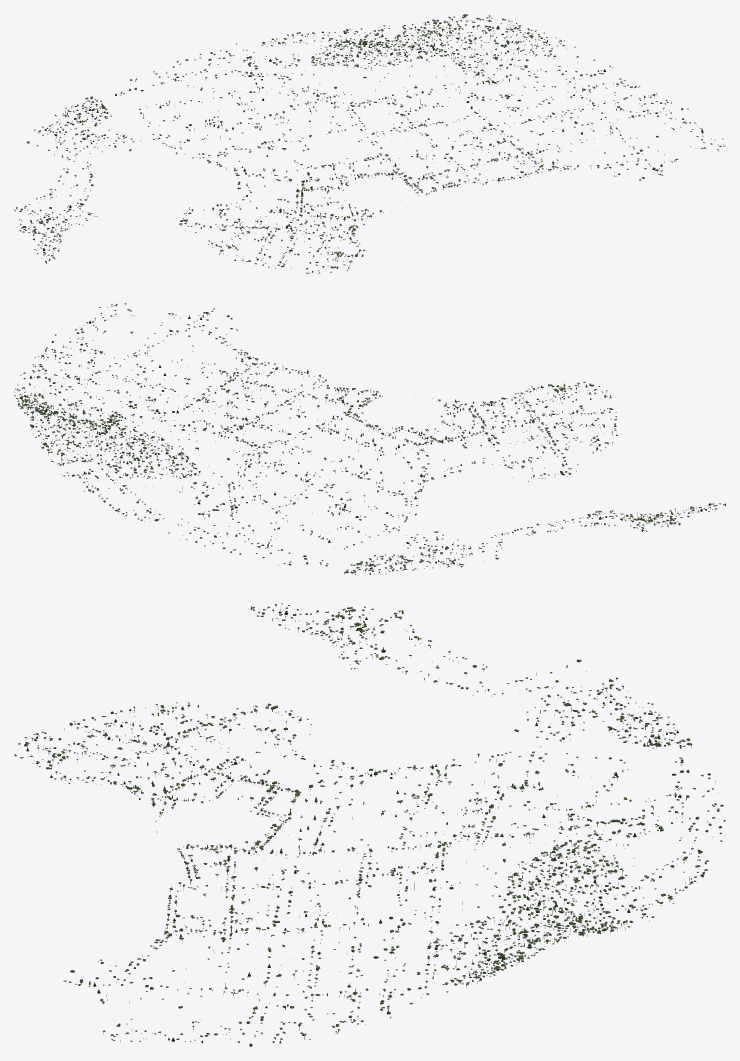
Rendered from bellerive_backdrop_part2.glb.
3 views of the same model, one above another, from view 1: azimuth 30°, elevation 25°; view 2: azimuth 150°, elevation 25°; view 3: azimuth 270°, elevation 25° (orthographic). The views are drawn at different scales.
Parts seen in each view (by area): view 1: bg_trees_joined_s13, bg_trees_joined_s12, bg_trees_joined_s14, bg_trees_joined_s15, bg_trees_joined_s00, bg_trees_joined_s04, bg_trees_joined_s06, bg_trees_joined_s07, bg_trees_joined_s11, bg_trees_joined_s05; view 2: bg_trees_joined_s13, bg_trees_joined_s12, bg_trees_joined_s14, bg_trees_joined_s00, bg_trees_joined_s15, bg_trees_joined_s04, bg_trees_joined_s07, bg_trees_joined_s06, bg_trees_joined_s05, bg_trees_joined_s11; view 3: bg_trees_joined_s13, bg_trees_joined_s12, bg_trees_joined_s14, bg_trees_joined_s15, bg_trees_joined_s00, bg_trees_joined_s04, bg_trees_joined_s07, bg_trees_joined_s06, bg_trees_joined_s11, bg_trees_joined_s05.
Part boxes in pixels (box(x1,y1,x2,y2)): bg_trees_joined_s13: box(199, 14, 471, 120); bg_trees_joined_s12: box(432, 15, 688, 158); bg_trees_joined_s14: box(27, 59, 287, 166); bg_trees_joined_s15: box(14, 154, 225, 263); bg_trees_joined_s00: box(234, 204, 368, 261); bg_trees_joined_s04: box(391, 118, 524, 187); bg_trees_joined_s06: box(225, 129, 351, 190); bg_trees_joined_s07: box(212, 182, 342, 228); bg_trees_joined_s11: box(531, 121, 725, 180); bg_trees_joined_s05: box(309, 112, 418, 179); bg_trees_joined_s13: box(30, 421, 307, 546); bg_trees_joined_s12: box(14, 331, 241, 426); bg_trees_joined_s14: box(222, 472, 498, 574); bg_trees_joined_s00: box(440, 386, 588, 444); bg_trees_joined_s15: box(491, 447, 725, 548); bg_trees_joined_s04: box(225, 374, 369, 421); bg_trees_joined_s07: box(421, 420, 559, 473); bg_trees_joined_s06: box(321, 426, 445, 487); bg_trees_joined_s05: box(234, 414, 380, 463); bg_trees_joined_s11: box(75, 303, 265, 372); bg_trees_joined_s13: box(392, 812, 725, 937); bg_trees_joined_s12: box(208, 894, 566, 1046); bg_trees_joined_s14: box(407, 659, 723, 817); bg_trees_joined_s15: box(211, 603, 536, 734); bg_trees_joined_s00: box(43, 719, 208, 809); bg_trees_joined_s04: box(208, 841, 371, 928); bg_trees_joined_s07: box(208, 718, 348, 801); bg_trees_joined_s06: box(250, 767, 444, 824); bg_trees_joined_s11: box(63, 926, 207, 1042); bg_trees_joined_s05: box(256, 817, 447, 880).
Bounding box in the file's own units: 2988 × 168 × 2058.
1 material, 1 textured.
